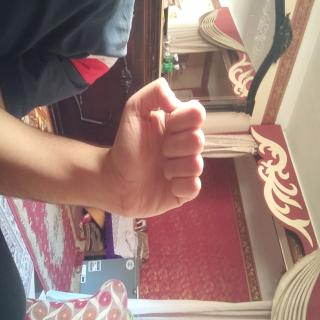SAD: (56, 150, 168, 289)
